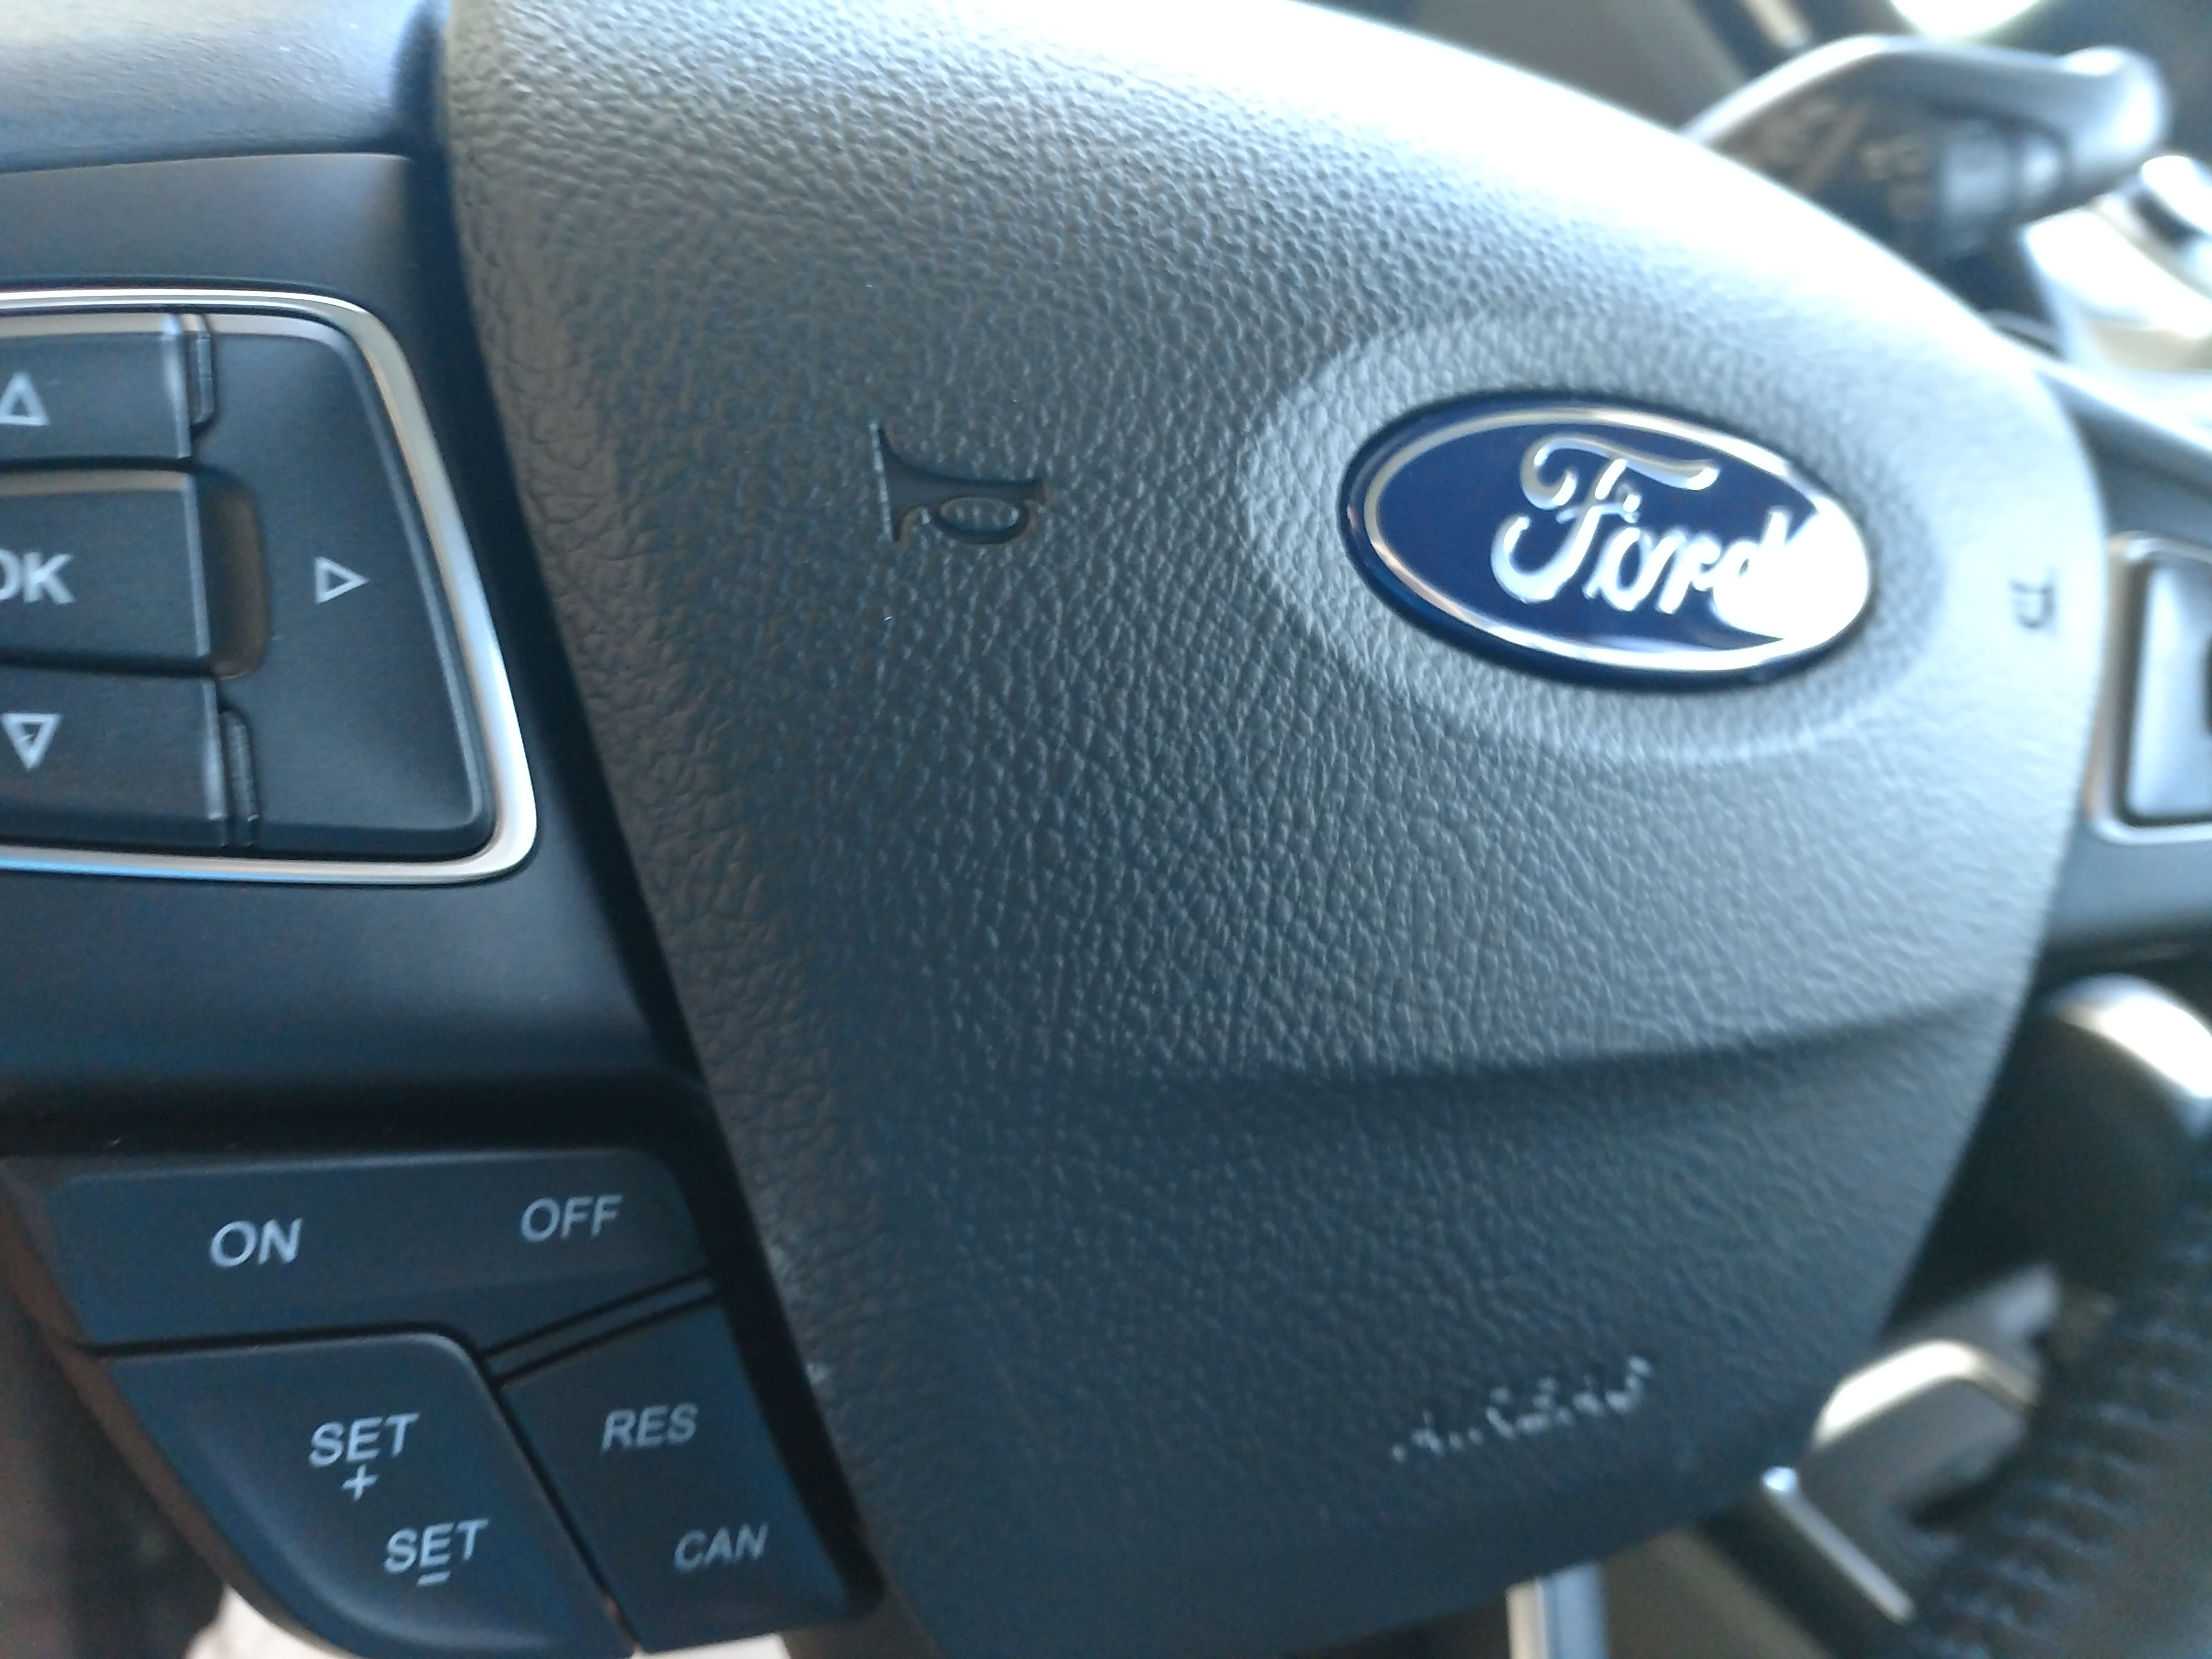Ford: (1292, 336, 1939, 723)
